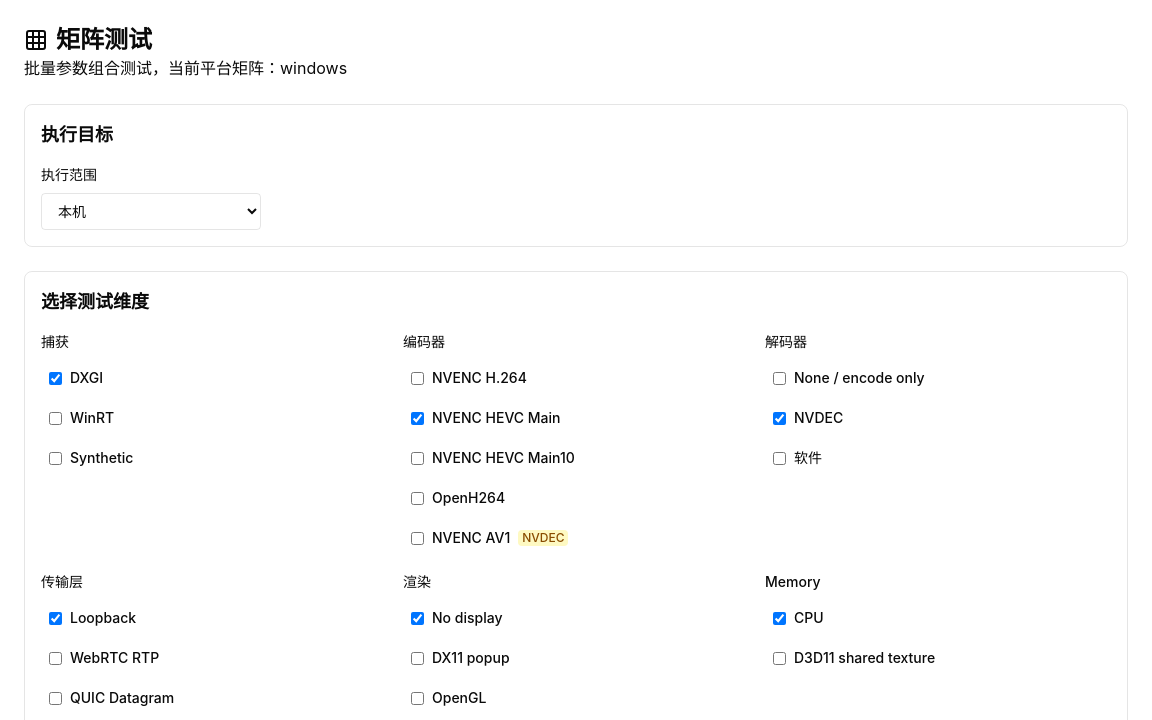
it: MatrixTestPage failure handling › disables loopback when the execution scope is cross-device
The image size is (1152, 720).
Select "跨设备" in the dropdown labelled "执行范围". click: (151,212)
box: x1=41 y1=193 x2=261 y2=230
(page scrolled)
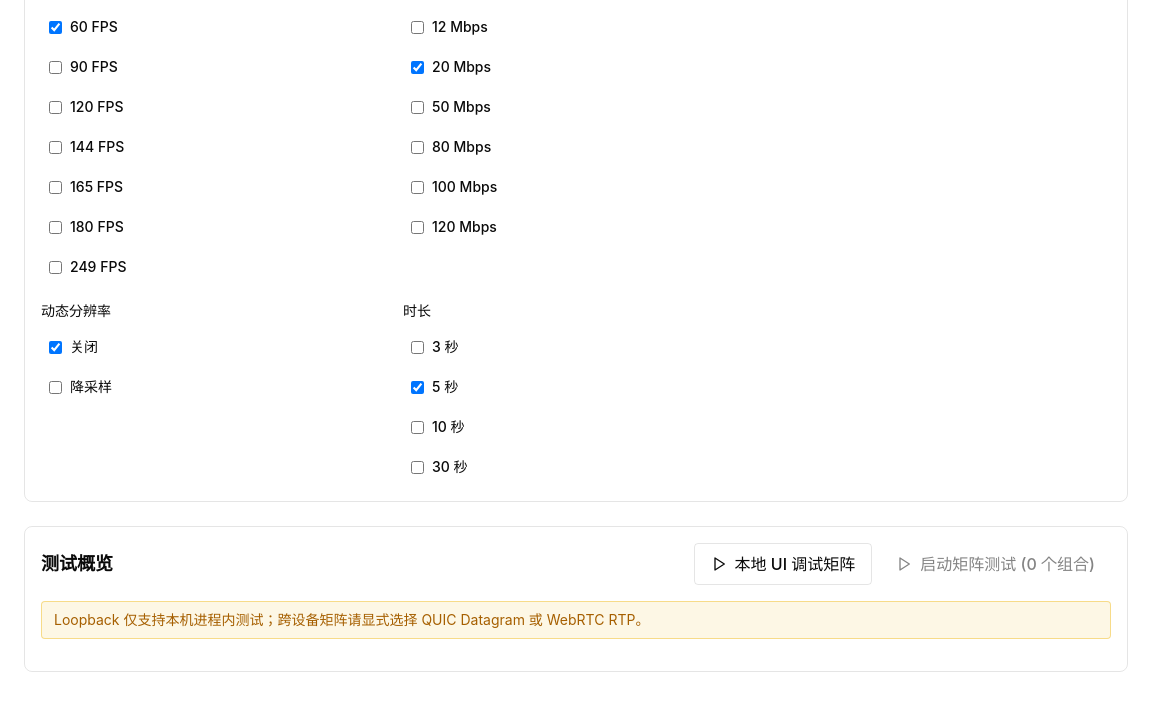
Expected: the text "Loopback 仅支持本机进程内测试；跨设备矩阵请显式选择 QUIC Datagram 或 WebRTC RTP。" is shown, x1=41 y1=601 x2=1111 y2=639
Expected: the button "启动矩阵测试 (0 个组合)" is disabled, x1=880 y1=543 x2=1111 y2=585
